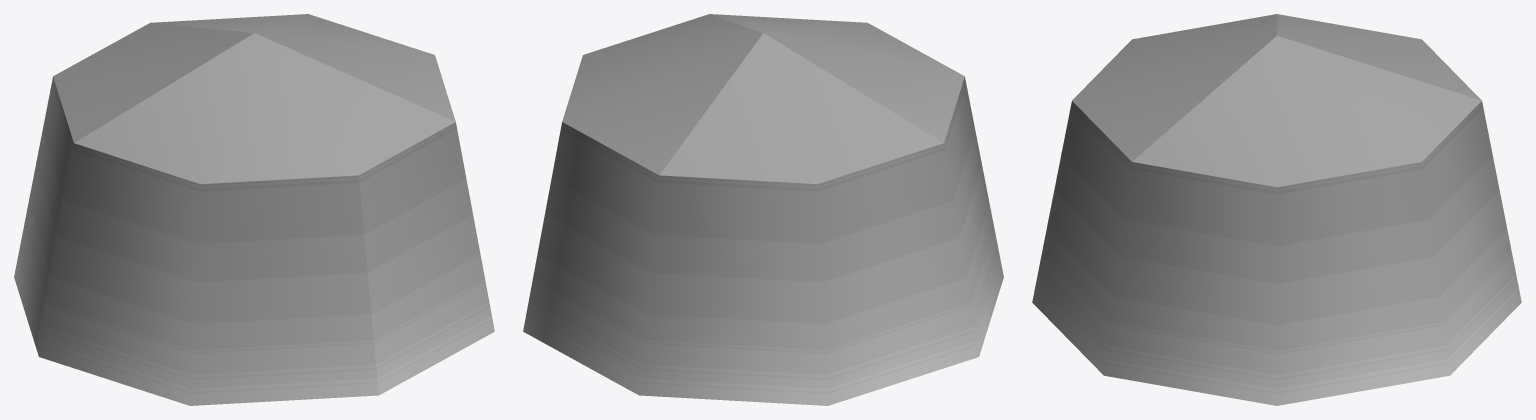
Rendered from Forest.fbx.
3 views of the same model, side by side, from view 1: azimuth 30°, elevation 25°; view 2: azimuth 150°, elevation 25°; view 3: azimuth 270°, elevation 25° (orthographic).
Visible parts, largest first — view 1: azia_d; view 2: azia_d; view 3: azia_d.
Boxes of the visible parts, box(x1,y1,x2,y2) form: azia_d: box(14, 14, 494, 405); azia_d: box(523, 14, 1003, 405); azia_d: box(1032, 14, 1521, 405).
Size of the model in its own units: 180950 by 108825 by 180950.
